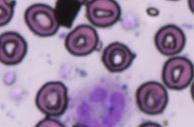N: (68, 74, 136, 126)
